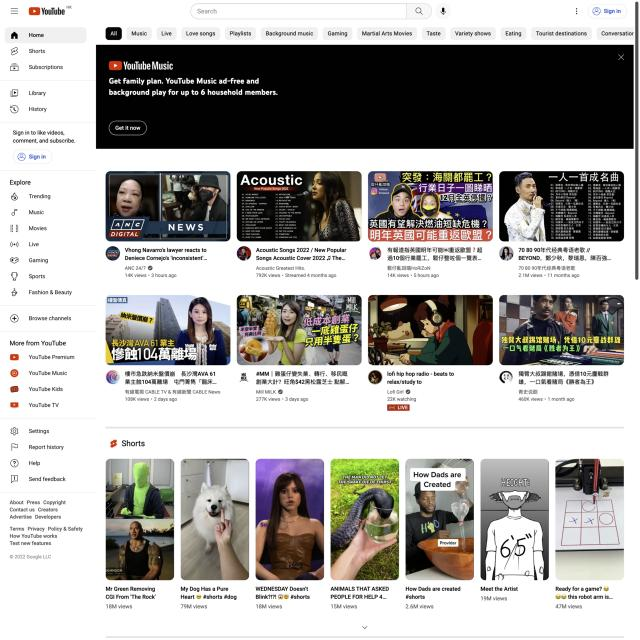input: (190, 2, 432, 20)
logo: (107, 59, 173, 72), (28, 2, 73, 19)
navigation: (105, 26, 634, 41), (8, 190, 75, 298), (7, 353, 77, 410), (8, 425, 70, 485), (10, 7, 20, 17)
